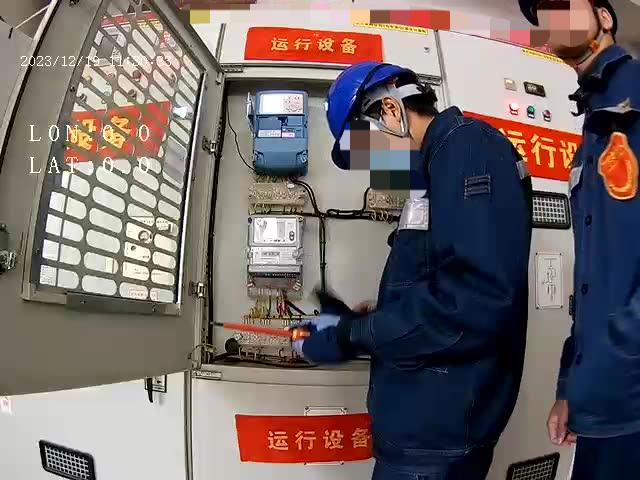halt: (327, 63, 439, 182), (519, 3, 635, 66)
inear: (362, 94, 413, 149), (589, 3, 624, 52)
